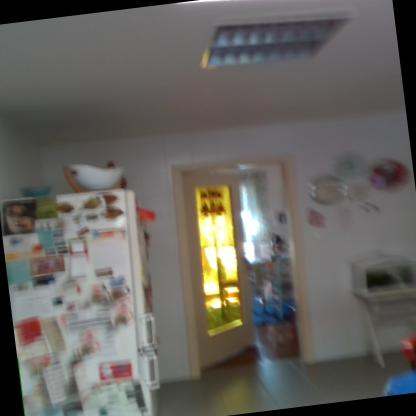closed: (157, 142, 334, 385)
